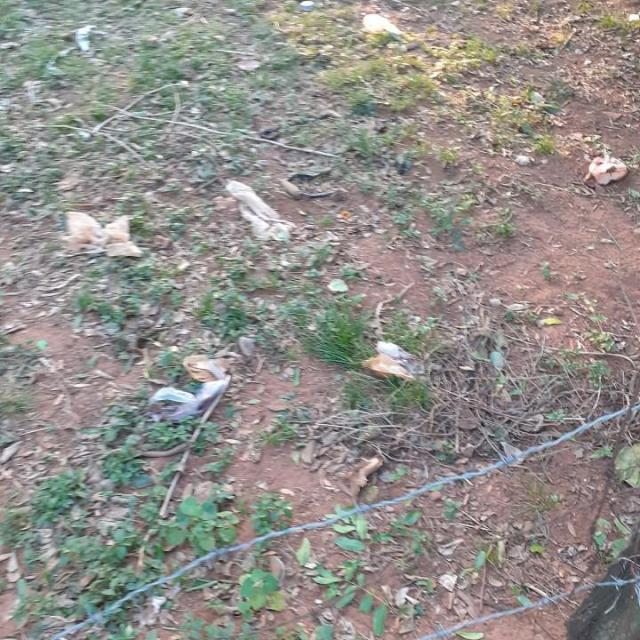litter: (61, 178, 373, 430)
